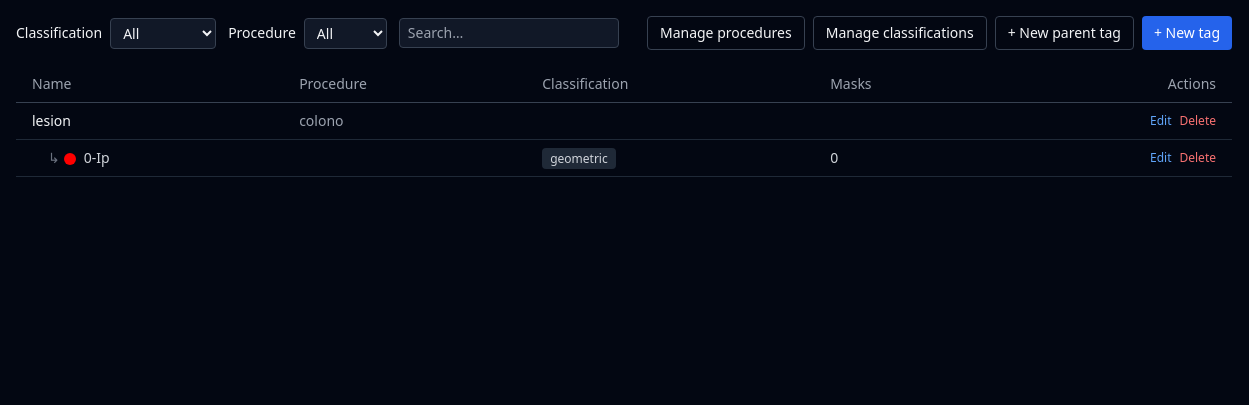
Test: TagsPage › opens the category form pre-filled when a category's Edit action is clicked
The image size is (1249, 405).
Expected: the text "lesion" is shown, [16,102,283,140]
Step 1. Click the button with aria-label "edit lesion" → (1161,121), box [1150,113,1172,129]
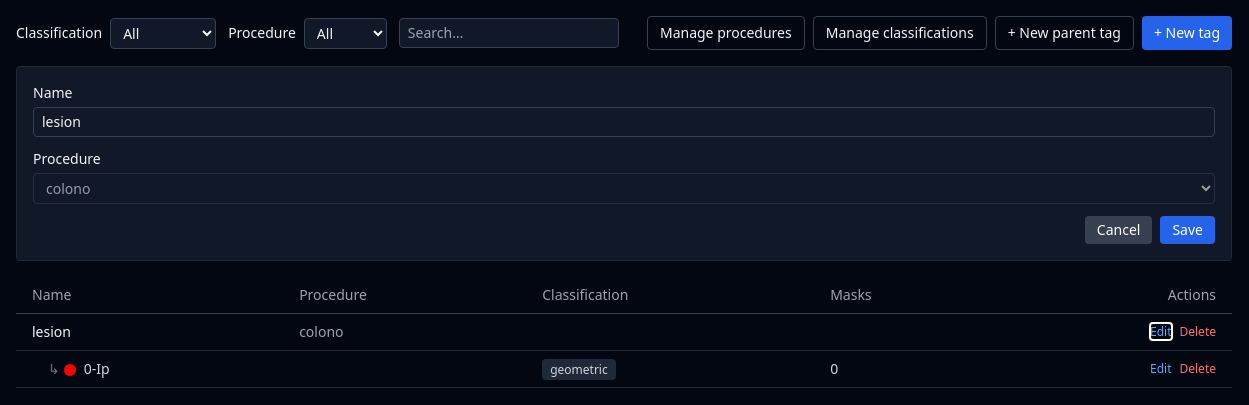
Expected: the field showing "lesion" is shown, [33,107,1215,137]
